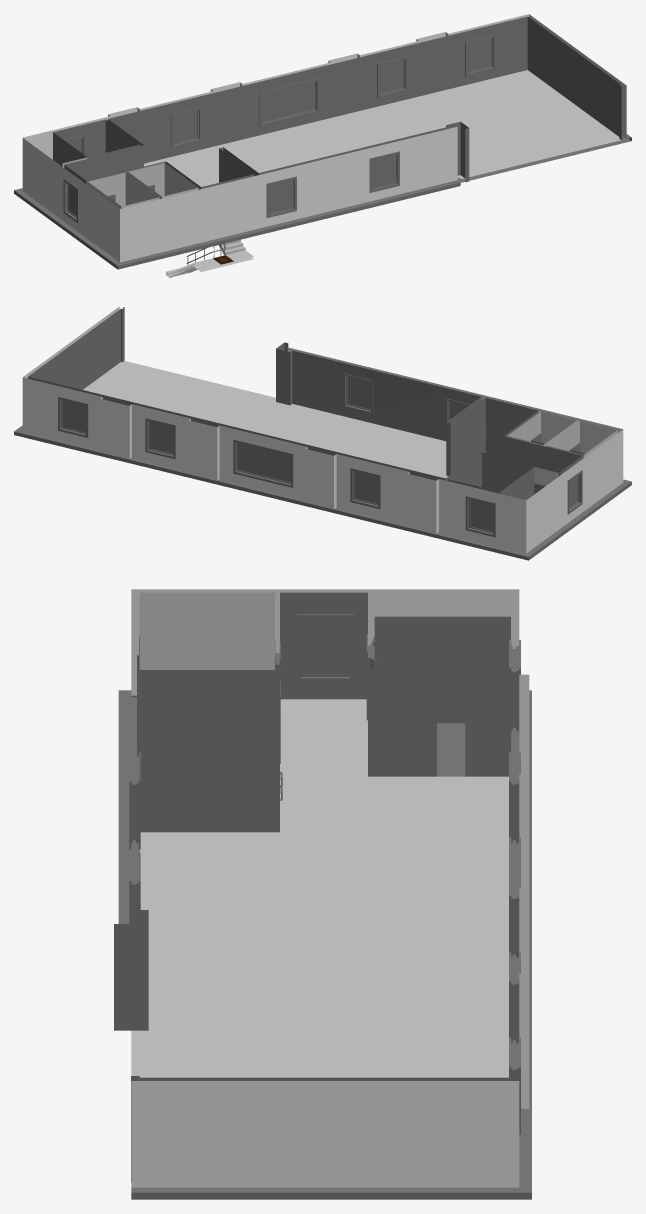
The model's file is Floor_01_A.fbx.
3 views of the same model, one above another, from view 1: azimuth 30°, elevation 25°; view 2: azimuth 150°, elevation 25°; view 3: azimuth 270°, elevation 25° (orthographic). The views are drawn at different scales.
Visible parts, largest first — view 1: Floor_01_A; view 2: Floor_01_A; view 3: Floor_01_A.
Part boxes in pixels (left/top/right/bottom): Floor_01_A: left=14, top=14, right=631, bottom=277; Floor_01_A: left=14, top=306, right=631, bottom=560; Floor_01_A: left=114, top=589, right=531, bottom=1199.
Bounding box in the file's own units: 3523 × 741 × 1238.
